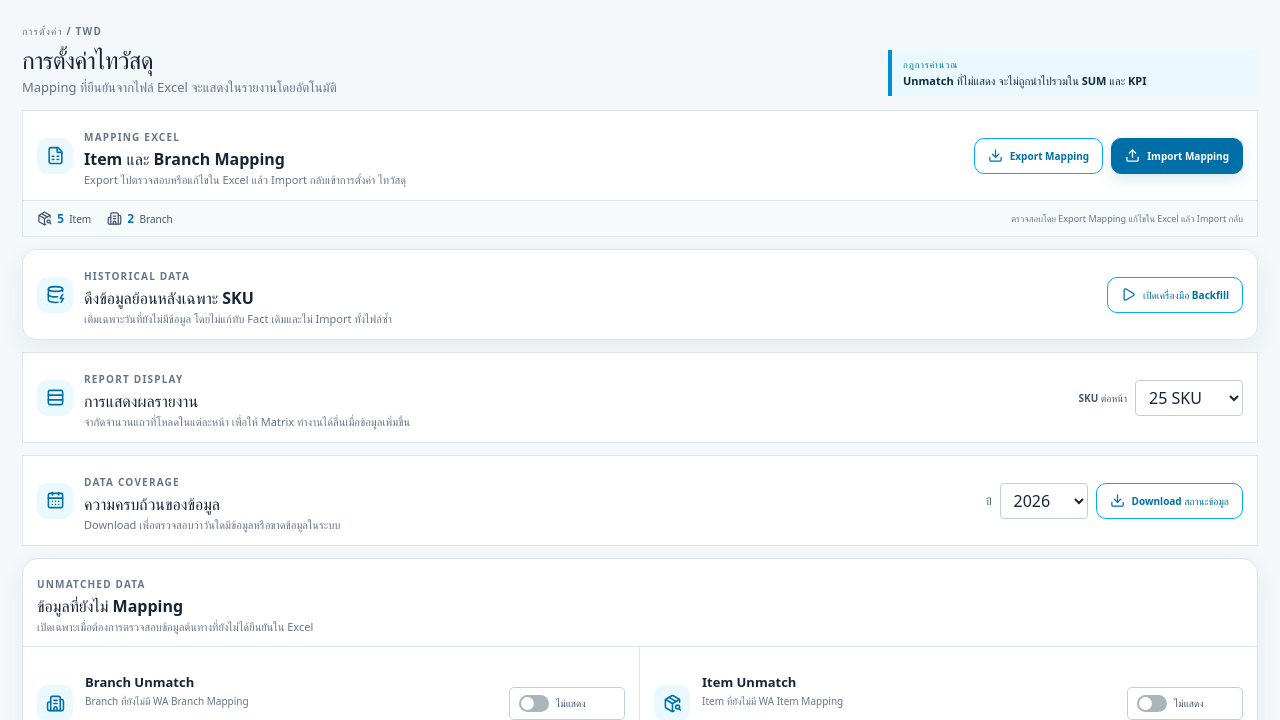
Test: TwdSettingsPage › uses two global controls for unmatched Branch and Item
Expected: the heading "การตั้งค่าไทวัสดุ" is shown, [22,43,153,76]
Expected: the heading "Item และ Branch Mapping" is shown, [84,148,285,170]
Click the switch named "แสดง Branch Unmatch" at (567, 703), box [509,686,625,719]
(page scrolled)
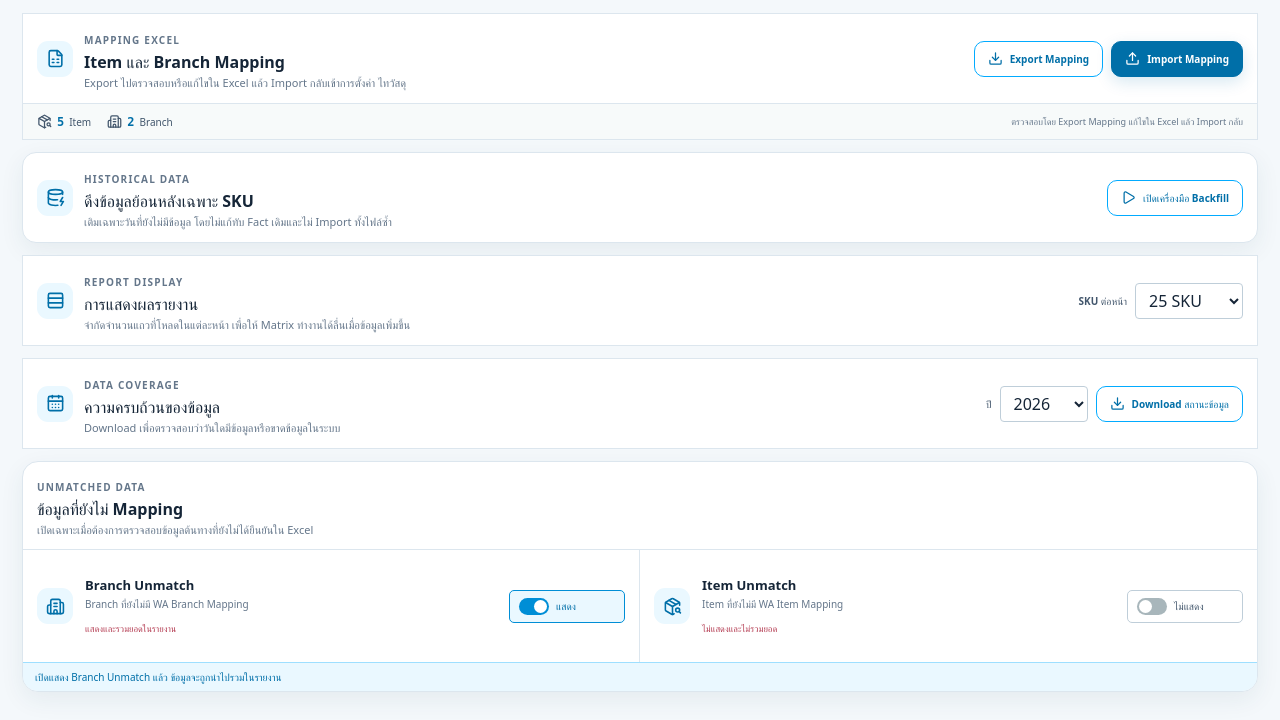
Result: the message shows "นำไปรวมในรายงาน" at [35,670,282,684]
